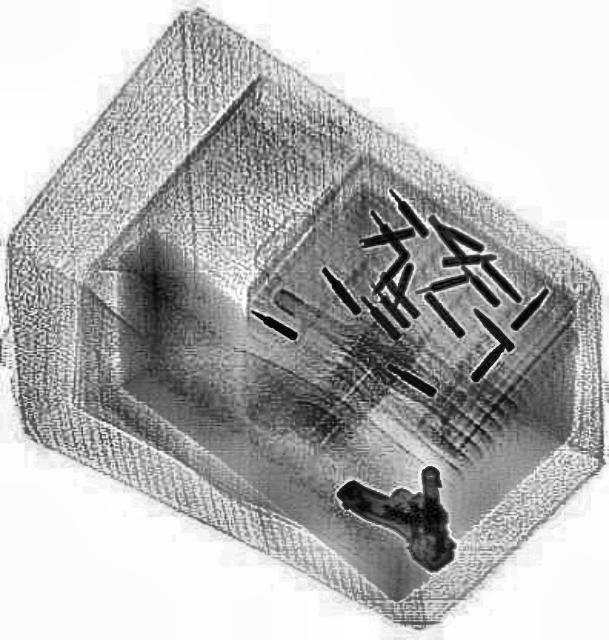Gun: (335, 464, 453, 566)
